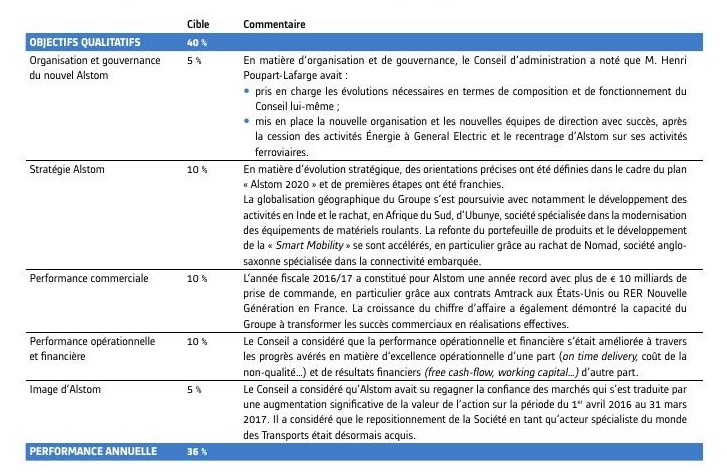table: (0, 0, 727, 476)
